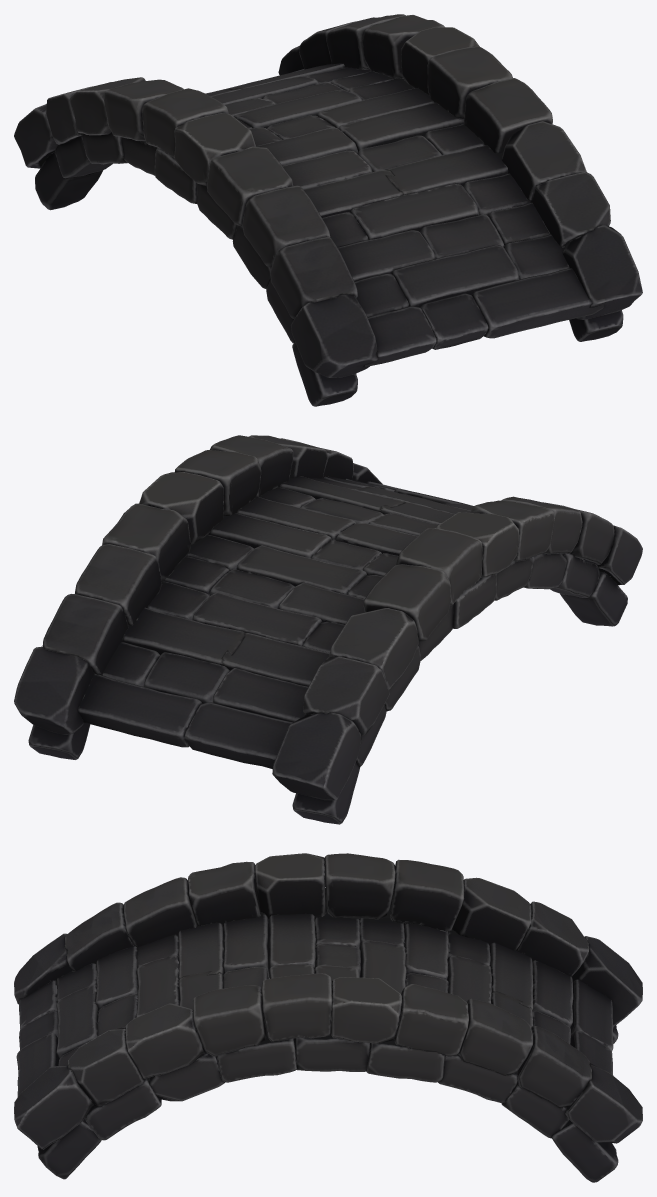
The model's file is Bridge.fbx.
The picture shows the model from 3 angles, top to bottom: view 1: azimuth 30°, elevation 25°; view 2: azimuth 150°, elevation 25°; view 3: azimuth 270°, elevation 25°; orthographic projection. The views are drawn at different scales.
Parts seen in each view (by area): view 1: stone_066_mesh3; view 2: stone_066_mesh3; view 3: stone_066_mesh3.
Boxes of the visible parts, x1,y1,x2,y2 form: stone_066_mesh3: (14,14,642,406); stone_066_mesh3: (14,435,642,824); stone_066_mesh3: (14,853,642,1182).
Size of the model in its own units: 221 by 126 by 383.
